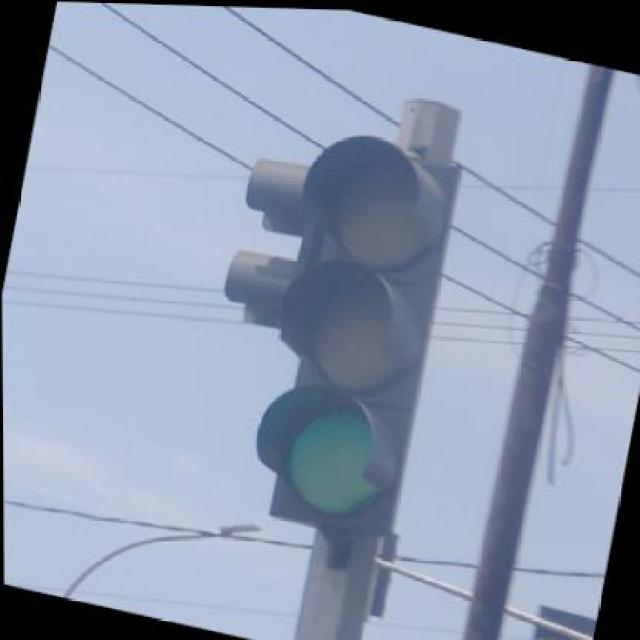green_light: (238, 121, 465, 542)
